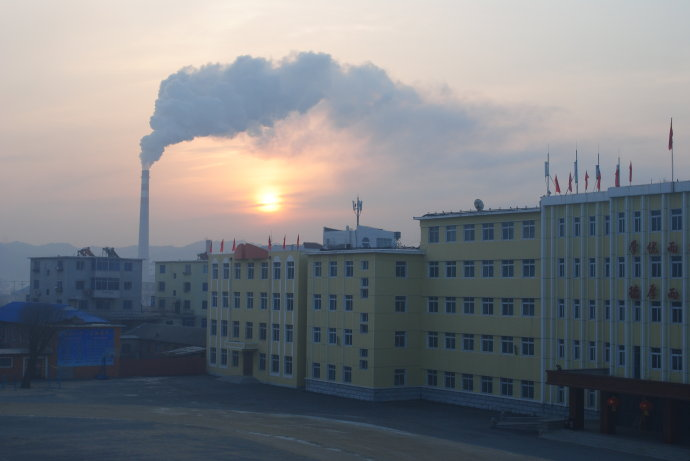dust: (131, 50, 355, 175)
